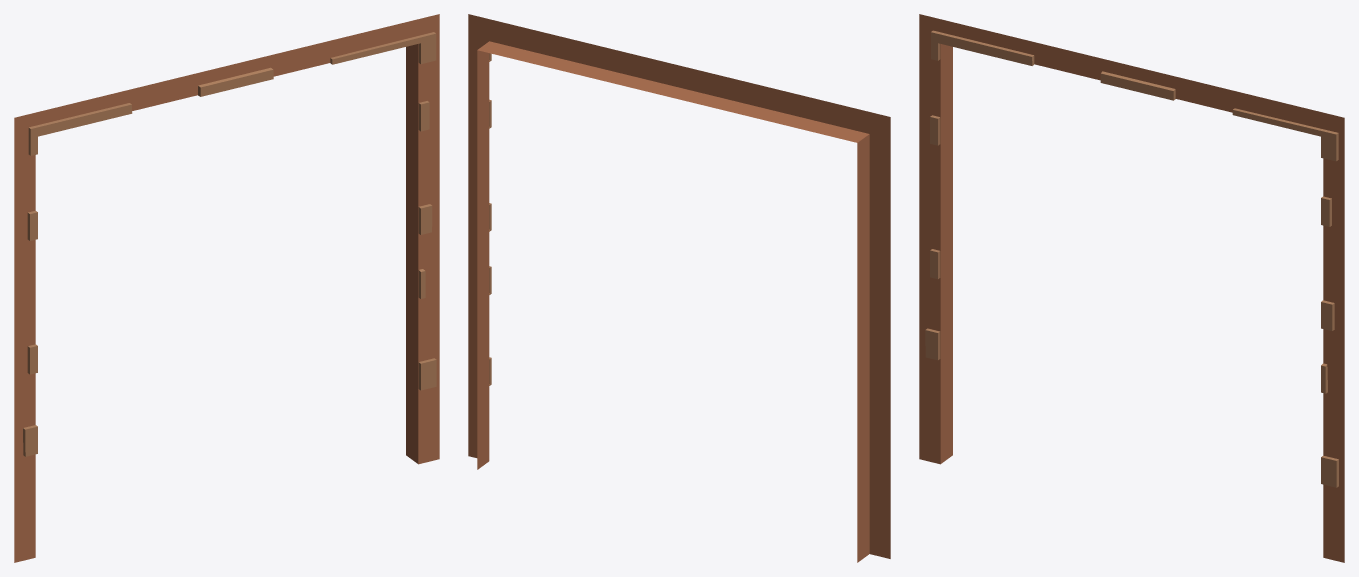
File: Ext-BrickV3GarageFrame.fbx
The picture shows the model from 3 angles, left to right: view 1: azimuth 30°, elevation 25°; view 2: azimuth 150°, elevation 25°; view 3: azimuth 330°, elevation 25°; orthographic projection.
Visible parts, largest first — view 1: Ext-BrickV3GarageFrame; view 2: Ext-BrickV3GarageFrame; view 3: Ext-BrickV3GarageFrame.
Part boxes in pixels (x1=…): Ext-BrickV3GarageFrame: x1=14, y1=14, x2=439, y2=562; Ext-BrickV3GarageFrame: x1=468, y1=14, x2=890, y2=562; Ext-BrickV3GarageFrame: x1=919, y1=14, x2=1344, y2=562.
Bounding box in the file's own units: 200 × 200 × 12.
